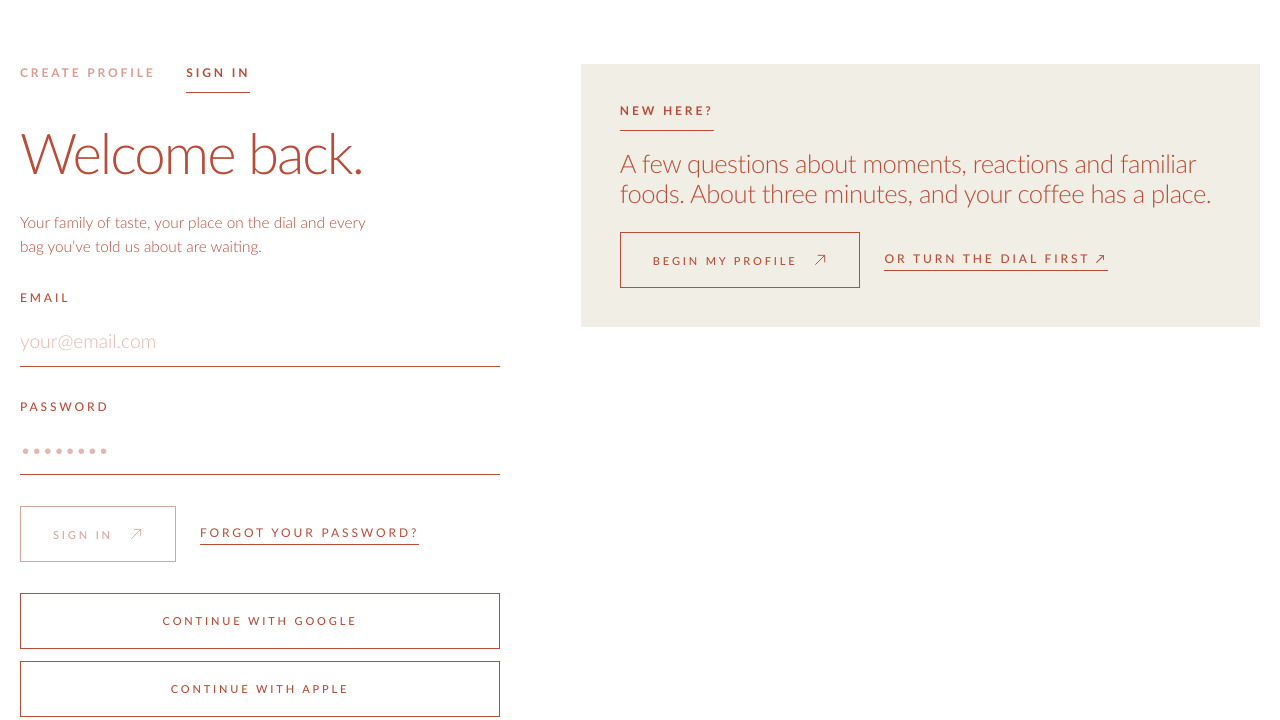
Scenario: /sign-in › disables the button until email and password are in
The width and height of the screenshot is (1280, 720).
Expected: the button with test id "sign-in-submit" is disabled, [20,506,176,562]
Type "a@b.co" into the field labelled "Email".
click(260, 342); type("a@b.co")  # box [20,317,500,367]
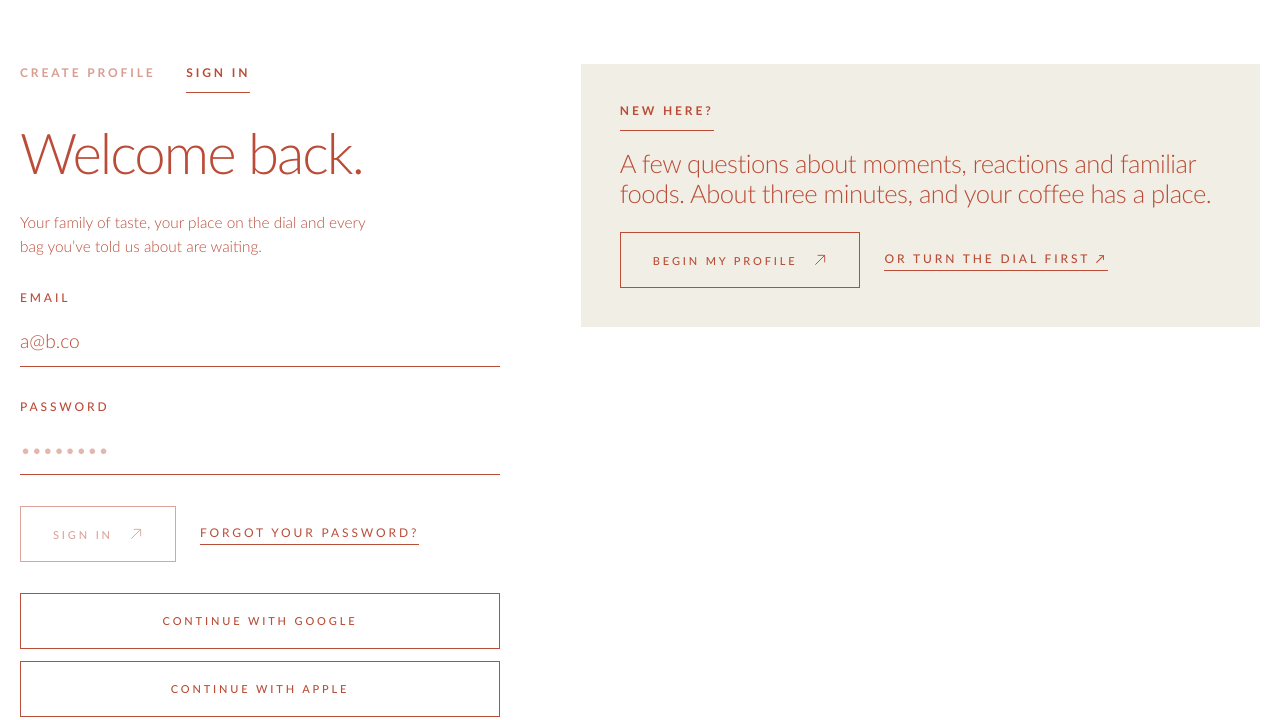
Type "x" into the password field labelled "Password".
click(260, 450); type("x")  # box [20,426,500,475]
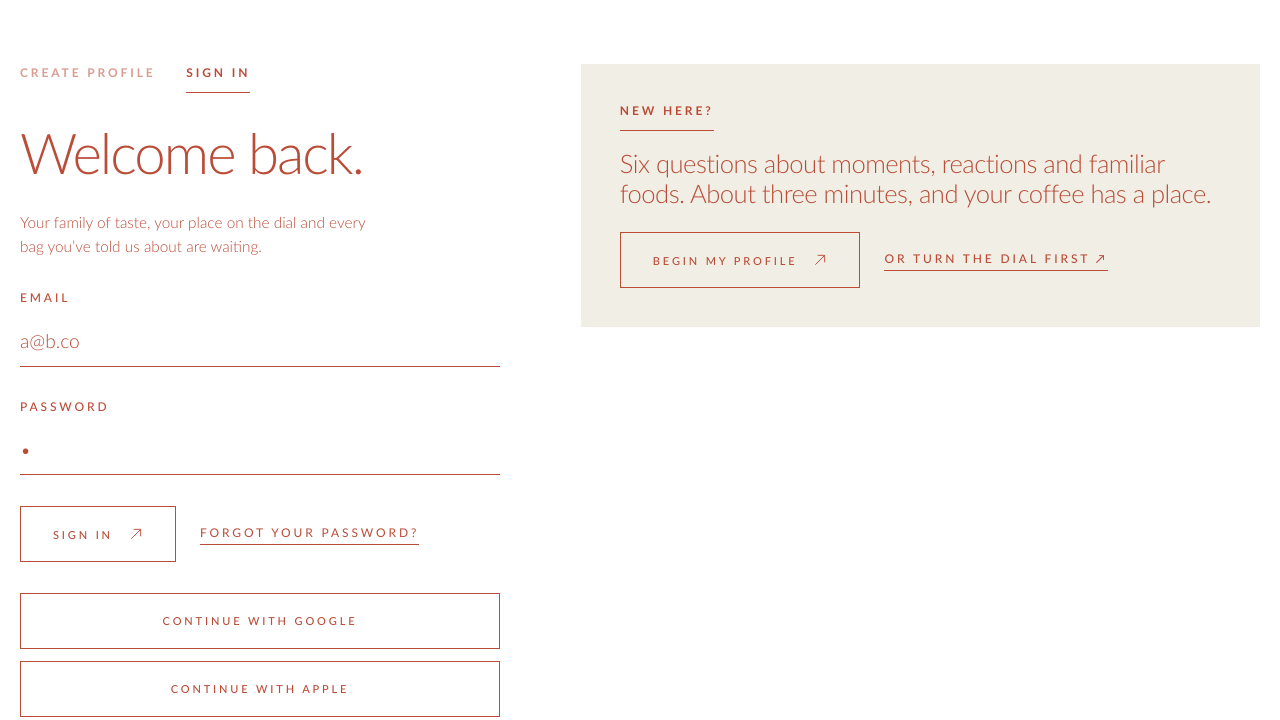
Result: the button with test id "sign-in-submit" is enabled at [20,506,176,562]
